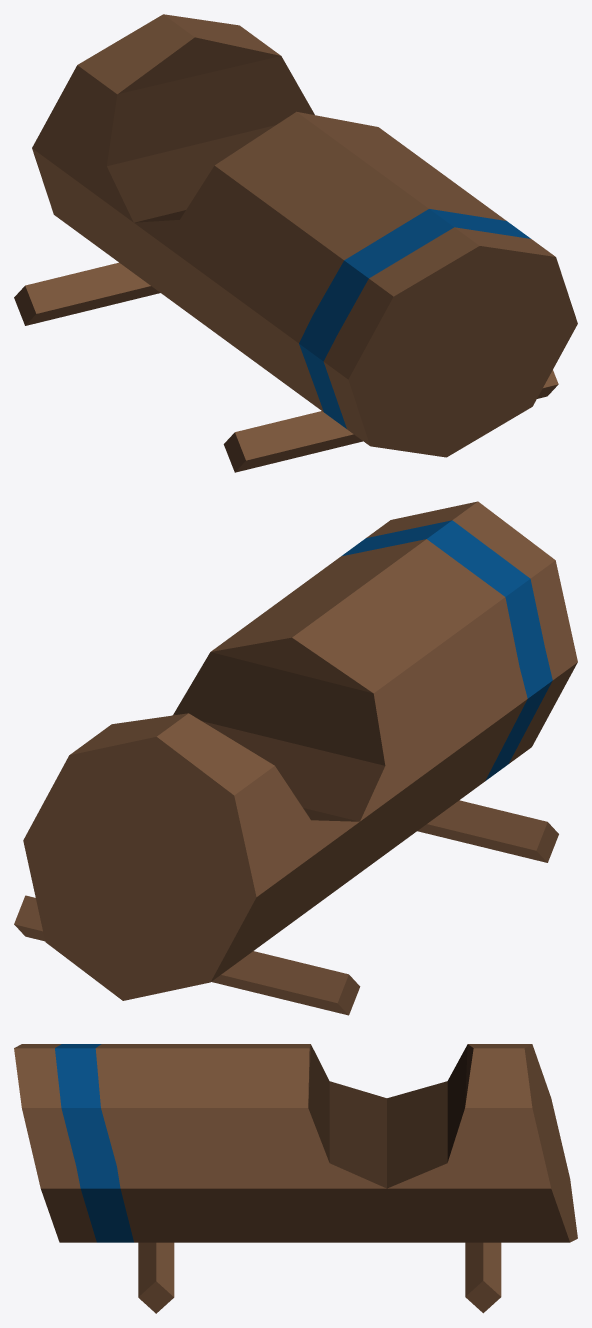
The model's file is carcass.fbx.
3 views of the same model, one above another, from view 1: azimuth 30°, elevation 25°; view 2: azimuth 150°, elevation 25°; view 3: azimuth 270°, elevation 25° (orthographic). The views are drawn at different scales.
Visible parts, largest first — view 1: pCylinder79; view 2: pCylinder79; view 3: pCylinder79.
Part boxes in pixels (x1,y1,x2,y2): pCylinder79: (14,14,577,472); pCylinder79: (14,501,577,1015); pCylinder79: (14,1044,577,1313).
Size of the model in its own units: 1.46 by 1.11 by 2.77.
